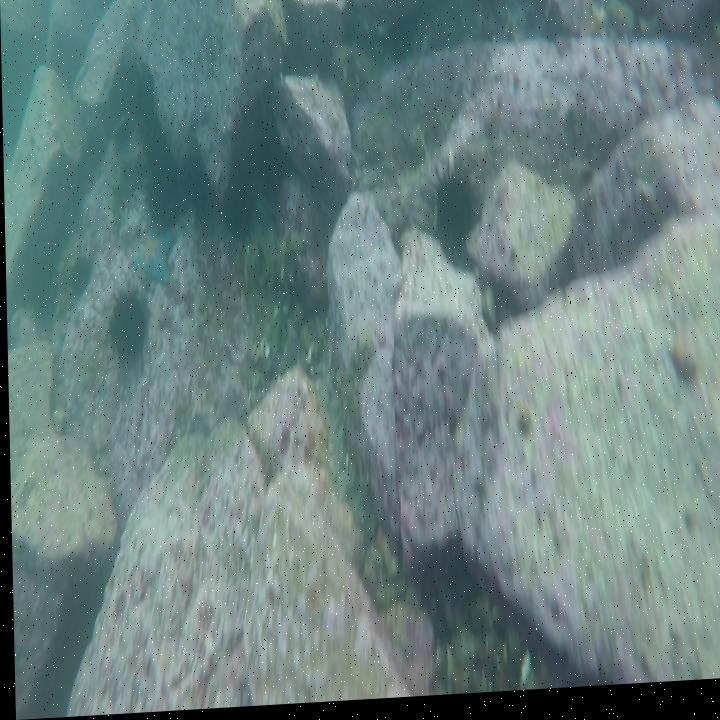echinus: (427, 168, 477, 246), (104, 283, 149, 365)
holothurian: (325, 39, 388, 106), (253, 227, 307, 296), (51, 228, 90, 323), (109, 154, 152, 220)
starfish: (128, 229, 177, 297)
